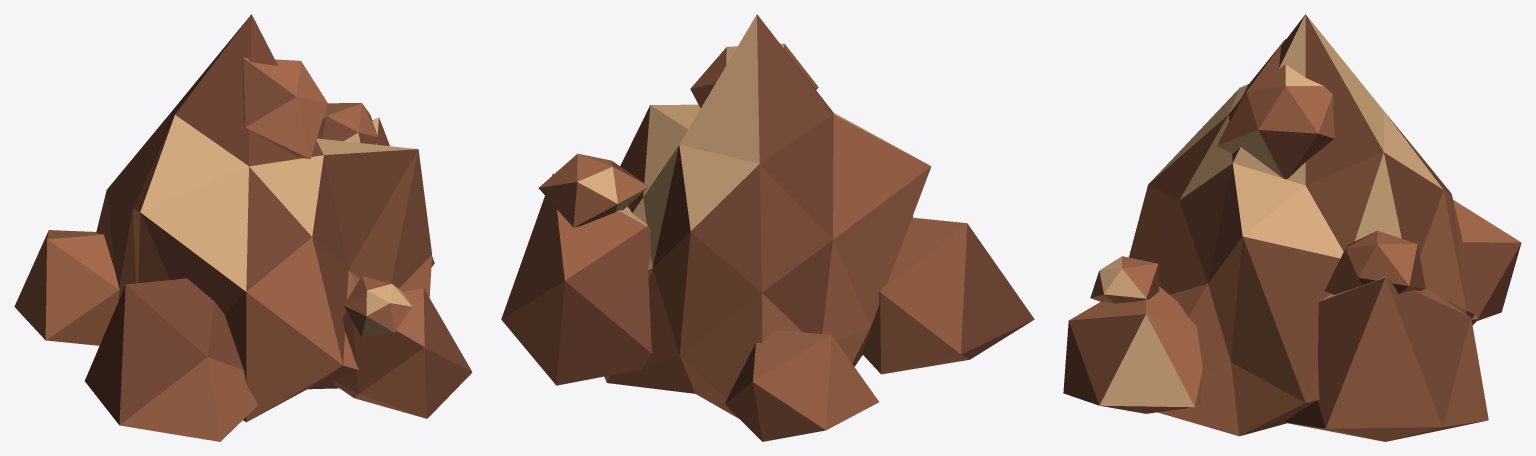
The model's file is bauxite_c.glb.
3 views of the same model, side by side, from view 1: azimuth 30°, elevation 25°; view 2: azimuth 150°, elevation 25°; view 3: azimuth 270°, elevation 25° (orthographic). The views are drawn at different scales.
Parts seen in each view (by area): view 1: bauxite_c; view 2: bauxite_c; view 3: bauxite_c.
Part boxes in pixels (x1=…): bauxite_c: x1=14, y1=14, x2=472, y2=441; bauxite_c: x1=501, y1=14, x2=1034, y2=441; bauxite_c: x1=1063, y1=14, x2=1521, y2=441.
Bounding box in the file's own units: 1.2 × 0.9656 × 1.15.
